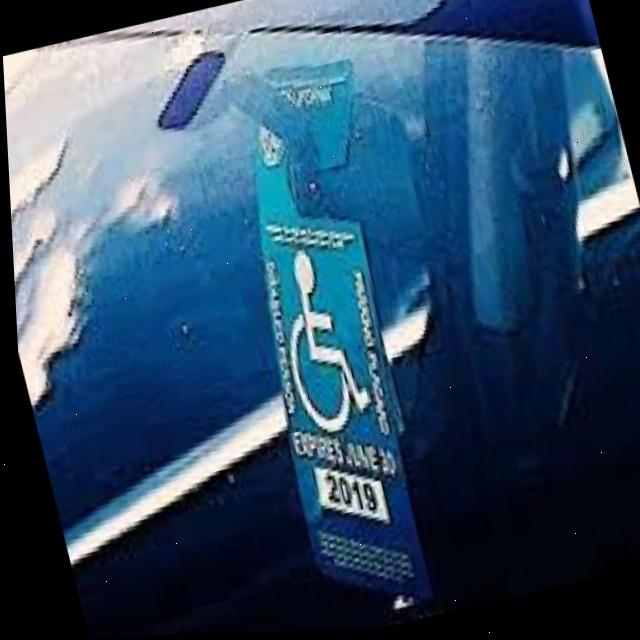symbol_of_access: (261, 245, 372, 441)
